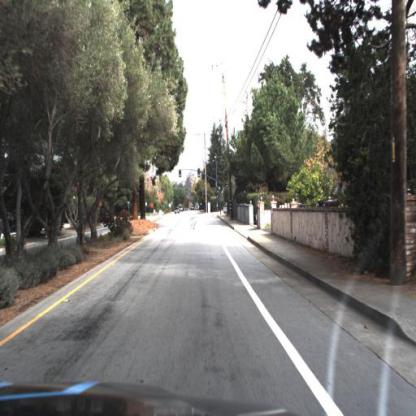trafficLight-Green: (176, 166, 184, 181), (197, 166, 202, 182)
